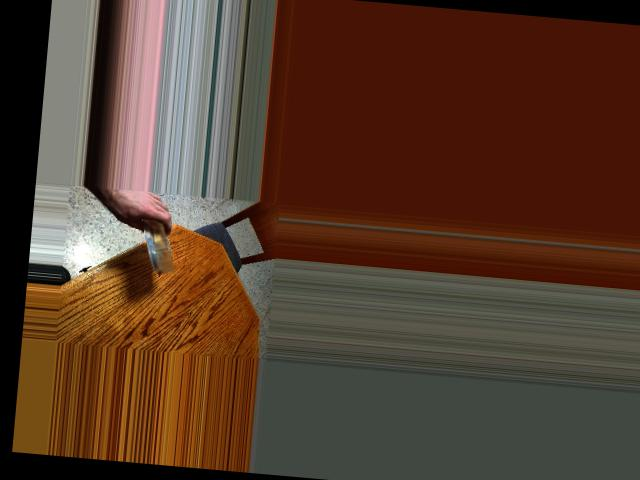cheese: (137, 218, 181, 267)
